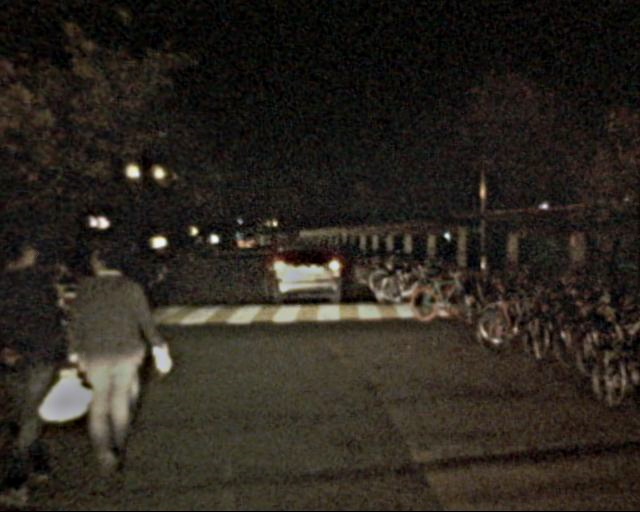person: (75, 227, 156, 463), (2, 220, 68, 486)
